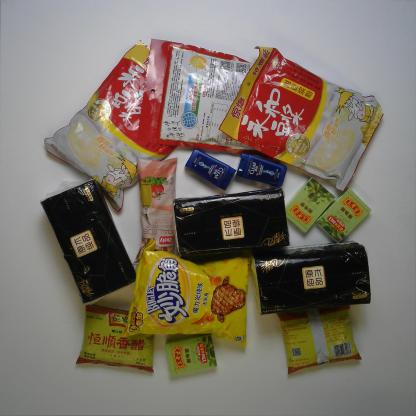Candy: (283, 174, 338, 234), (318, 187, 374, 243), (162, 332, 220, 376)
Dessert: (130, 156, 184, 267)
Instant Drink: (43, 41, 210, 211), (217, 45, 383, 191), (134, 37, 307, 156)
Personal Hygiene: (184, 150, 240, 192), (234, 152, 290, 190)
Puffed Food: (119, 237, 250, 350)
Seasoner: (272, 298, 362, 376), (76, 304, 158, 375)
Tissue: (40, 177, 137, 305), (247, 241, 372, 317), (172, 187, 291, 259)
